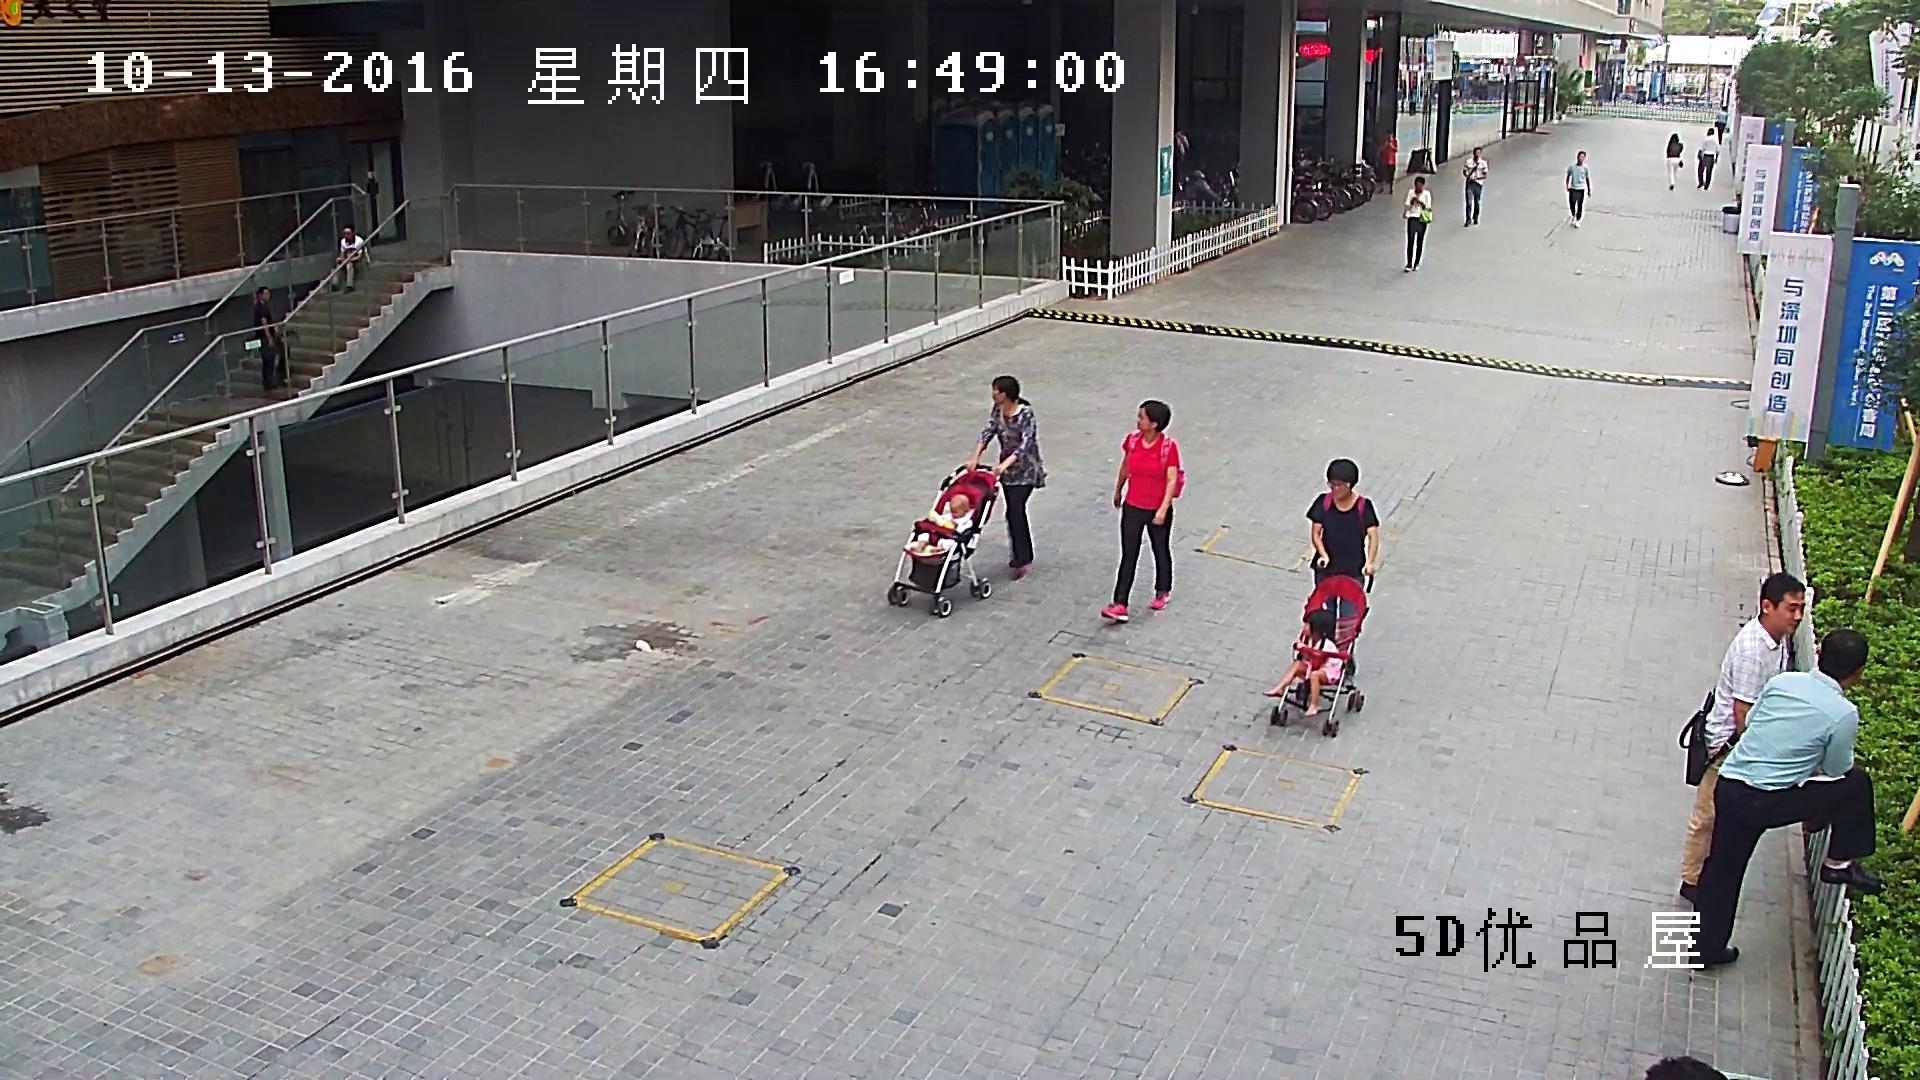person: (1688, 629, 1888, 970), (1677, 572, 1804, 901), (886, 375, 1047, 617), (1268, 457, 1380, 736), (1099, 398, 1181, 622), (966, 375, 1047, 578), (1306, 458, 1379, 674), (1262, 608, 1342, 716), (910, 493, 974, 553), (252, 286, 288, 391), (1402, 175, 1431, 273), (329, 227, 370, 292), (1463, 147, 1488, 228), (1565, 151, 1590, 228), (1697, 127, 1719, 191), (1377, 129, 1398, 194), (1666, 133, 1683, 190), (1174, 129, 1189, 160), (1715, 106, 1728, 144), (1614, 76, 1621, 103)
